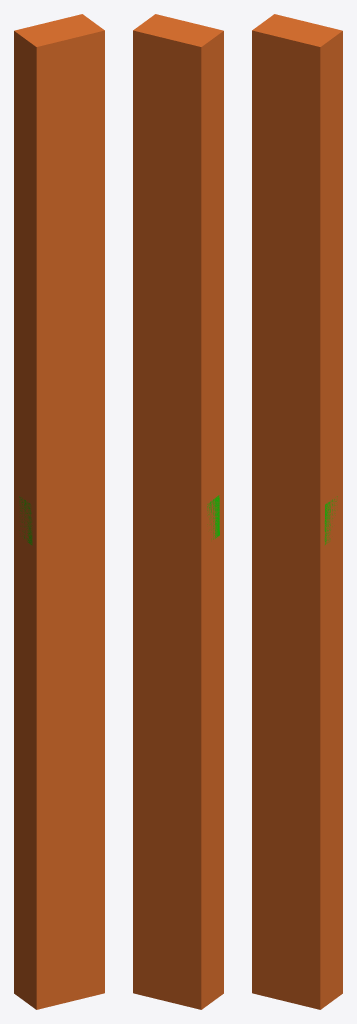
File: StandAnimated.glb
3 views of the same model, side by side, from view 1: azimuth 30°, elevation 25°; view 2: azimuth 150°, elevation 25°; view 3: azimuth 330°, elevation 25° (orthographic).
Parts seen in each view (by area): view 1: Cube, Cube.001; view 2: Cube, Cube.001; view 3: Cube, Cube.001.
Boxes of the visible parts, left/top/right/bottom form: Cube: left=14, top=14, right=104, bottom=1009; Cube.001: left=19, top=496, right=32, bottom=545; Cube: left=133, top=14, right=223, bottom=1009; Cube.001: left=207, top=495, right=219, bottom=539; Cube: left=252, top=14, right=342, bottom=1009; Cube.001: left=324, top=496, right=337, bottom=544.
Bounding box in the file's own units: 0.4 × 5.38 × 0.2276.
